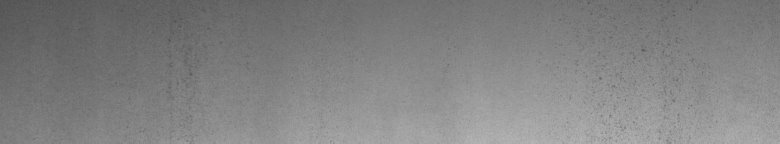ib: (594, 49, 680, 132)
